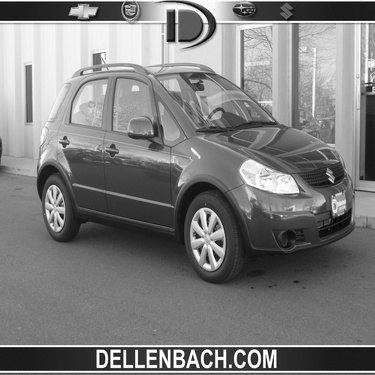car: (27, 53, 356, 274)
